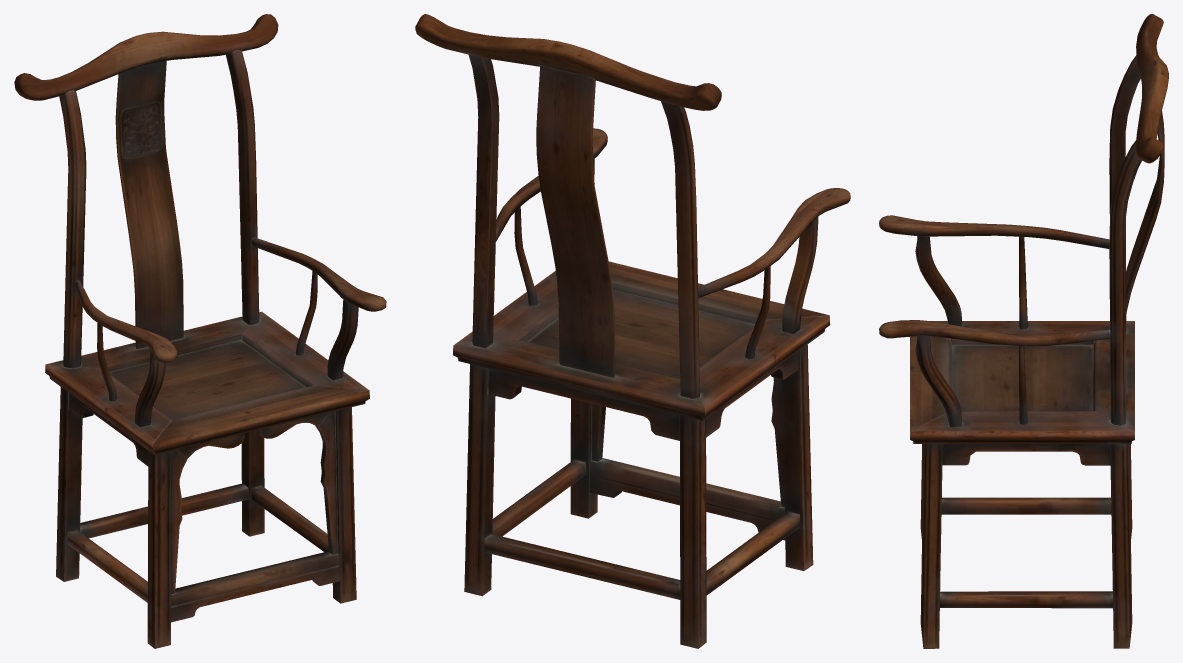
File: chinese_armchair.glb
The picture shows the model from 3 angles, left to right: view 1: azimuth 30°, elevation 25°; view 2: azimuth 150°, elevation 25°; view 3: azimuth 270°, elevation 25°; orthographic projection. The views are drawn at different scales.
Visible parts, largest first — view 1: chinese_armchair; view 2: chinese_armchair; view 3: chinese_armchair.
Part boxes in pixels (x1,y1,x2,y2): chinese_armchair: [14, 14, 386, 648]; chinese_armchair: [415, 14, 850, 648]; chinese_armchair: [879, 14, 1168, 648].
Bounding box in the file's own units: 0.8483 × 1.59 × 0.7887.
1 material, 1 textured.
